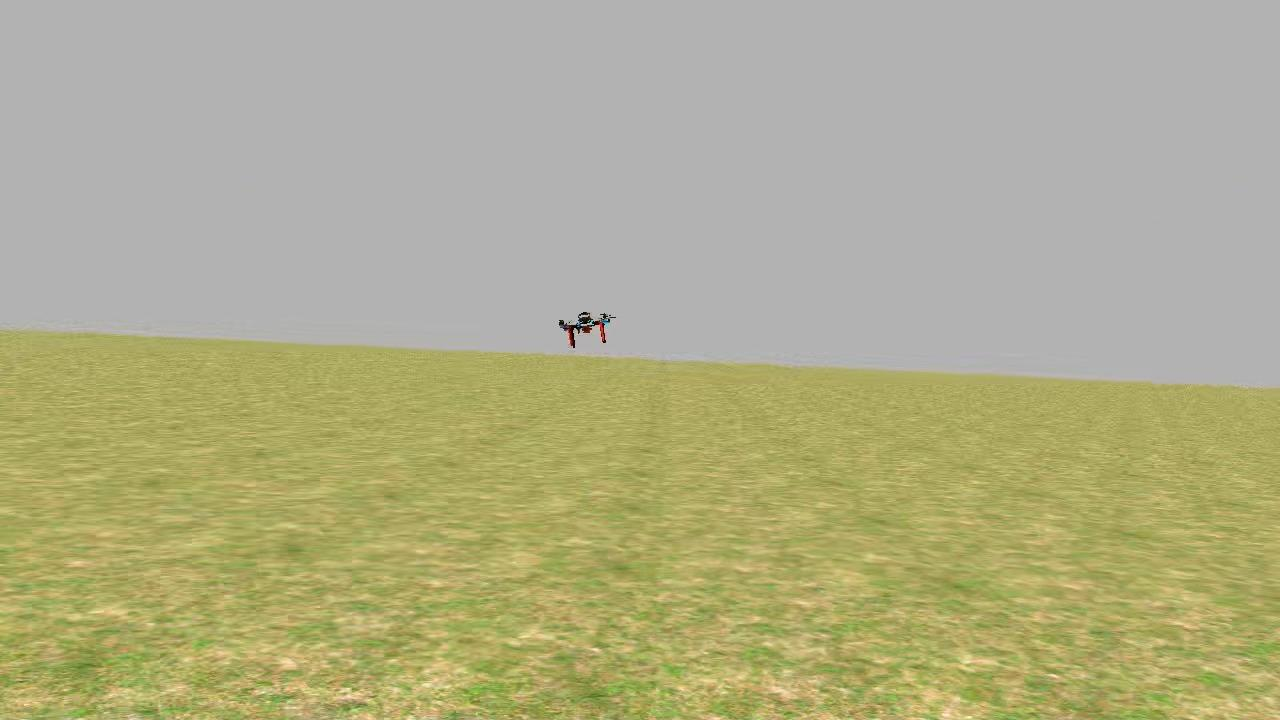UAV: (551, 302, 621, 355)
